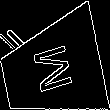M_W: (28, 41, 76, 98)
